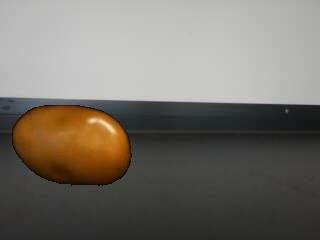Potato: (12, 104, 132, 187)
